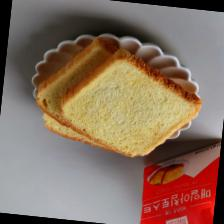bread: (56, 42, 205, 163)
